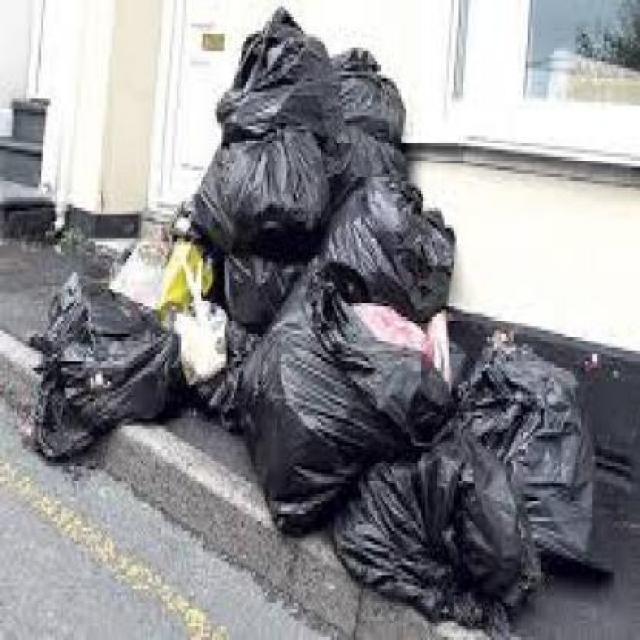garbage: (165, 25, 592, 614), (17, 233, 190, 502)
